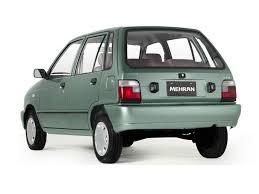Hatchback: (16, 21, 249, 171)
